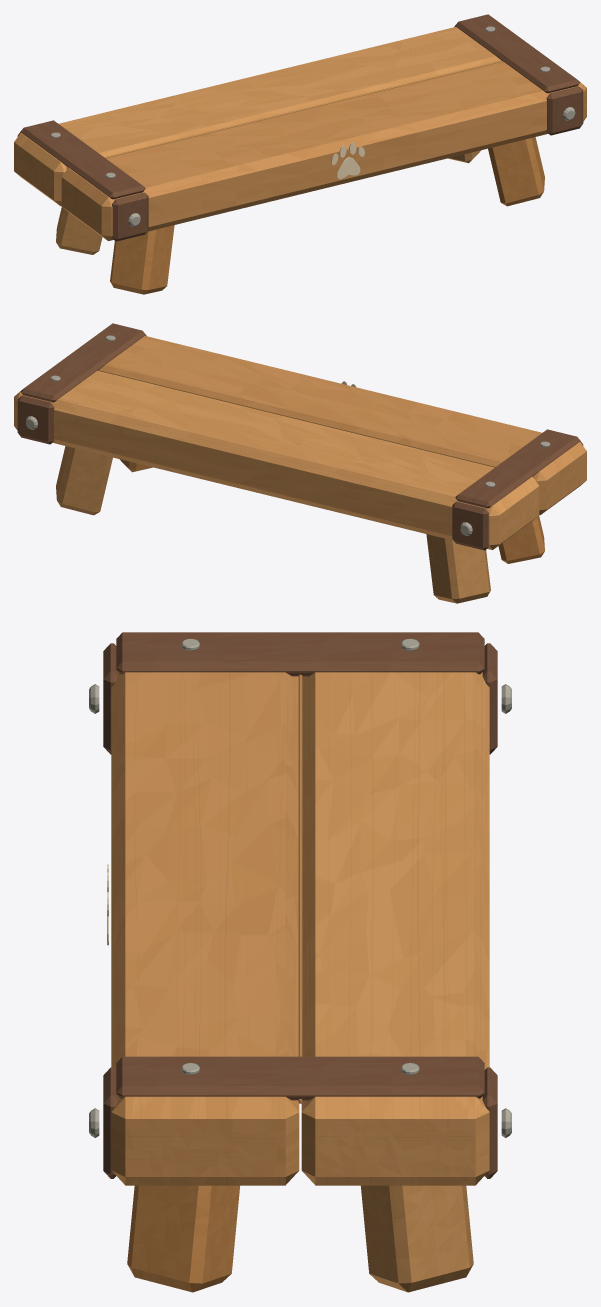
File: 05_BowlStand.fbx
The picture shows the model from 3 angles, top to bottom: view 1: azimuth 30°, elevation 25°; view 2: azimuth 150°, elevation 25°; view 3: azimuth 270°, elevation 25°; orthographic projection. The views are drawn at different scales.
Visible parts, largest first — view 1: 05_BowlStand; view 2: 05_BowlStand; view 3: 05_BowlStand.
Boxes of the visible parts, left/top/right/bottom form: 05_BowlStand: left=14, top=14, right=586, bottom=294; 05_BowlStand: left=14, top=323, right=586, bottom=603; 05_BowlStand: left=89, top=632, right=511, bottom=1292.
Bounding box in the file's own units: 195 × 46.87 × 73.5.
Materials: 1 (1 with a texture image).
